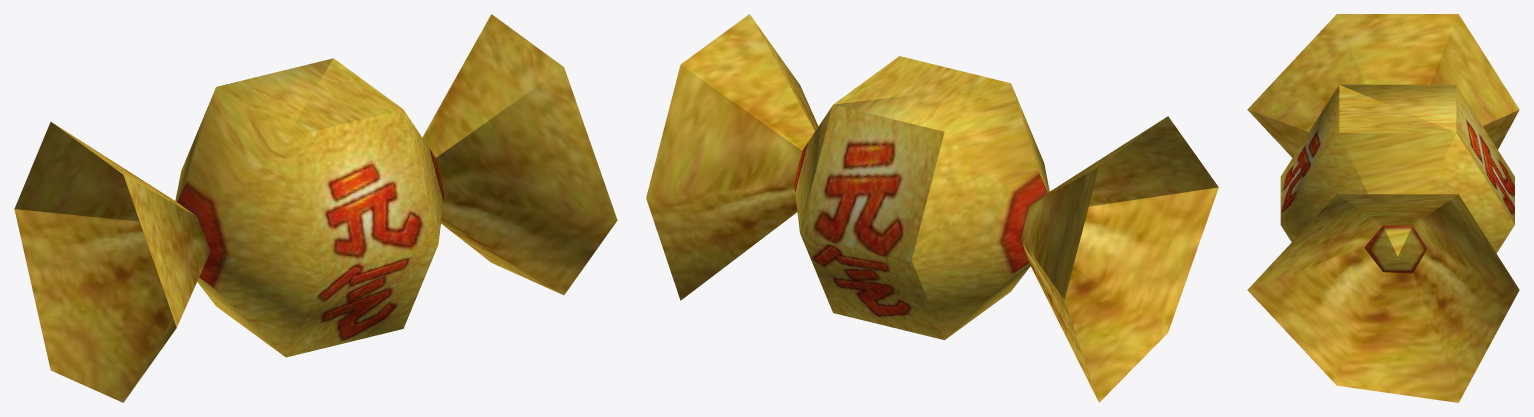
Rendered from Item11.FBX.
3 renders of one model, left to right at view 1: azimuth 30°, elevation 25°; view 2: azimuth 150°, elevation 25°; view 3: azimuth 270°, elevation 25°, orthographic. The views are drawn at different scales.
Parts seen in each view (by area): view 1: item11; view 2: item11; view 3: item11.
Boxes of the visible parts, <box> form: item11: <box>14,14,617,402</box>; item11: <box>646,14,1218,402</box>; item11: <box>1247,14,1519,402</box>.
Size of the model in its own units: 14.9 by 8.04 by 9.51.
Materials: 2 (2 with a texture image).
